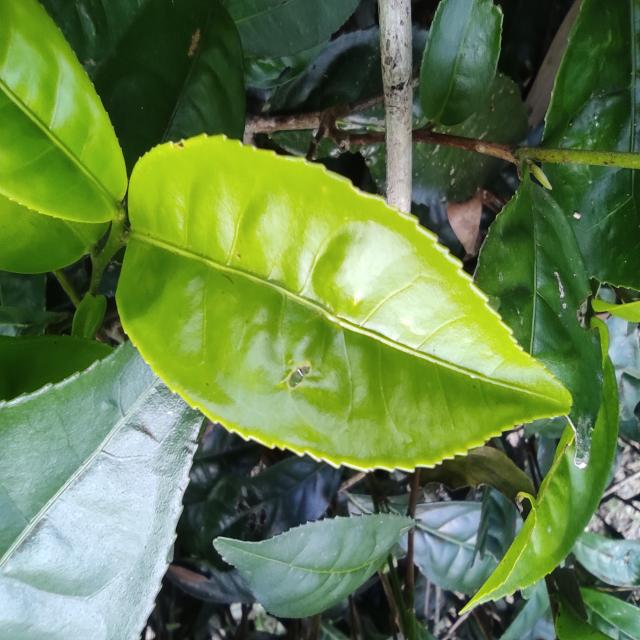Category B(2-4 days): (114, 130, 576, 475)
